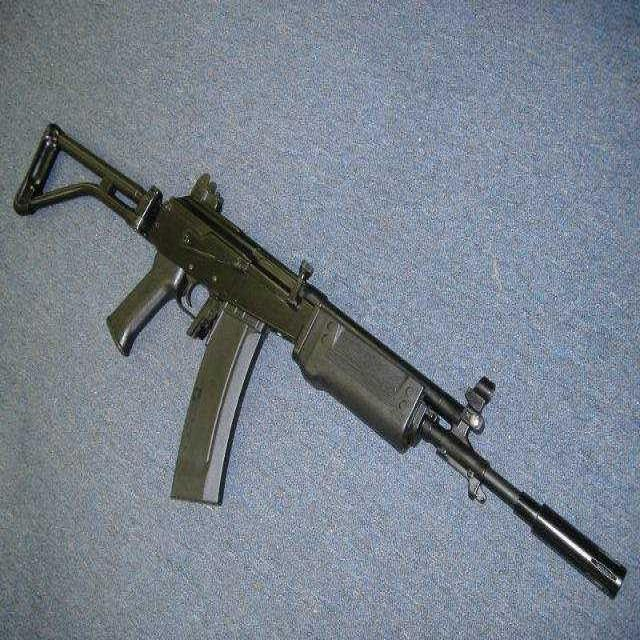heavyweapon: (11, 109, 632, 611)
